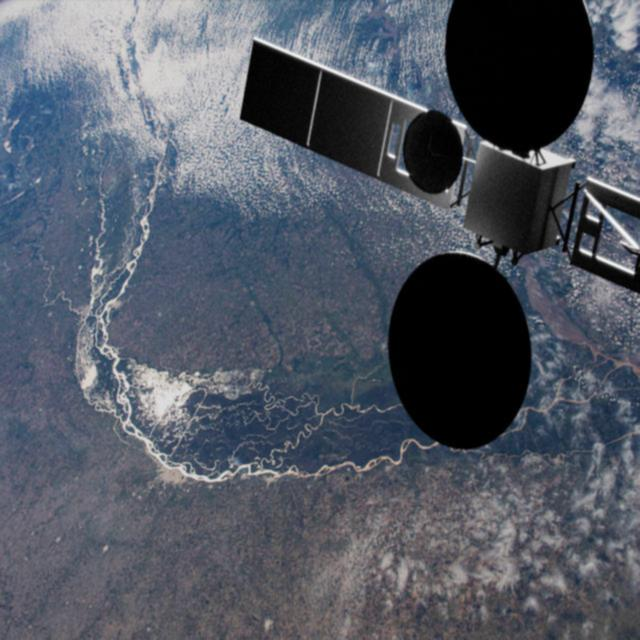satellite: (206, 0, 640, 443)
